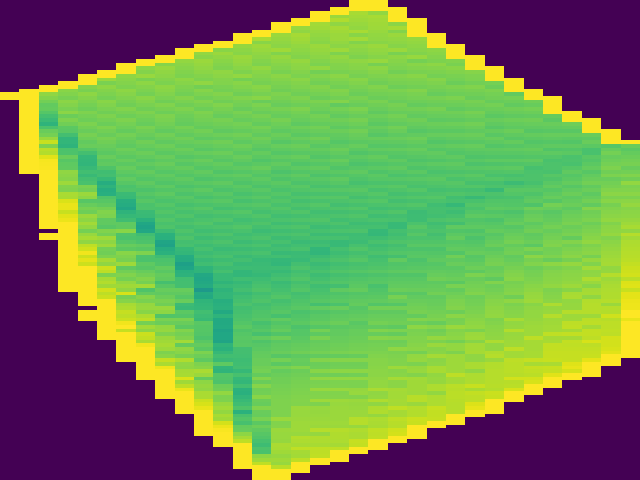cube: (2, 1, 640, 480)
